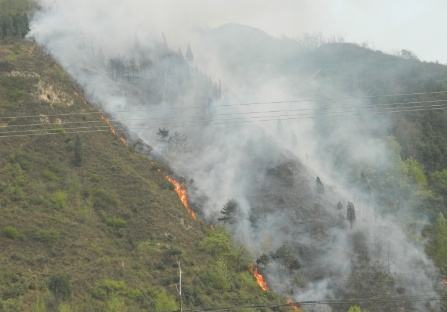fire: (74, 89, 125, 144), (157, 167, 197, 224), (249, 265, 298, 309)
yanwu: (23, 1, 440, 308)
